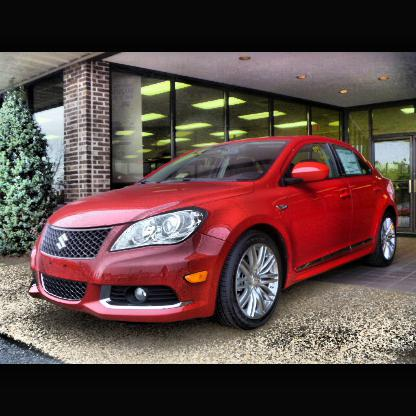Suzuki Kizashi Sedan 2012: (30, 135, 399, 331)
